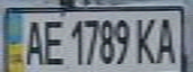1: (63, 16, 84, 65)
7: (81, 16, 100, 65)
8: (97, 16, 118, 65)
9: (112, 15, 133, 65)
A: (151, 12, 181, 65), (21, 16, 48, 66)
E: (39, 16, 66, 66)
K: (133, 14, 160, 65)
